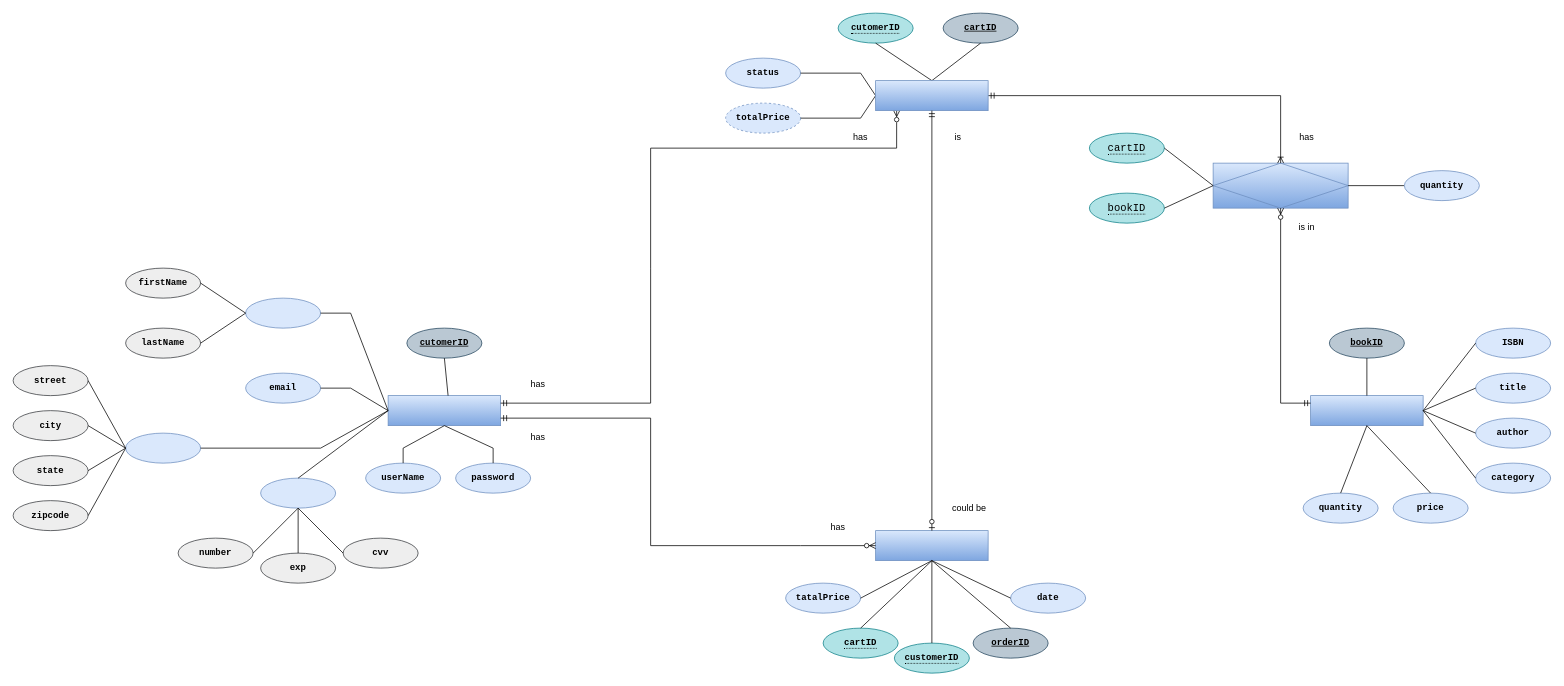
The diagram is 1564 pixels wide and 686 high, and some of its shapes have lost their labels. The centre of each missing label's shape, as x and y in pixels:
"address" goes at (163,447).
"Book" goes at (1366,410).
"card" goes at (298,492).
"Cart" goes at (931,95).
"Cutomer" goes at (444,410).
"name" goes at (283,312).
"Order" goes at (931,545).
"OrderLine" goes at (1280,185).
